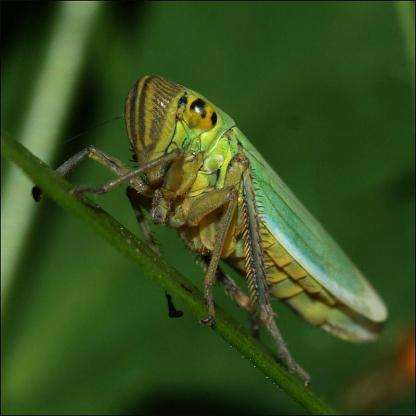Green-Leafhopper: (48, 73, 391, 361)
